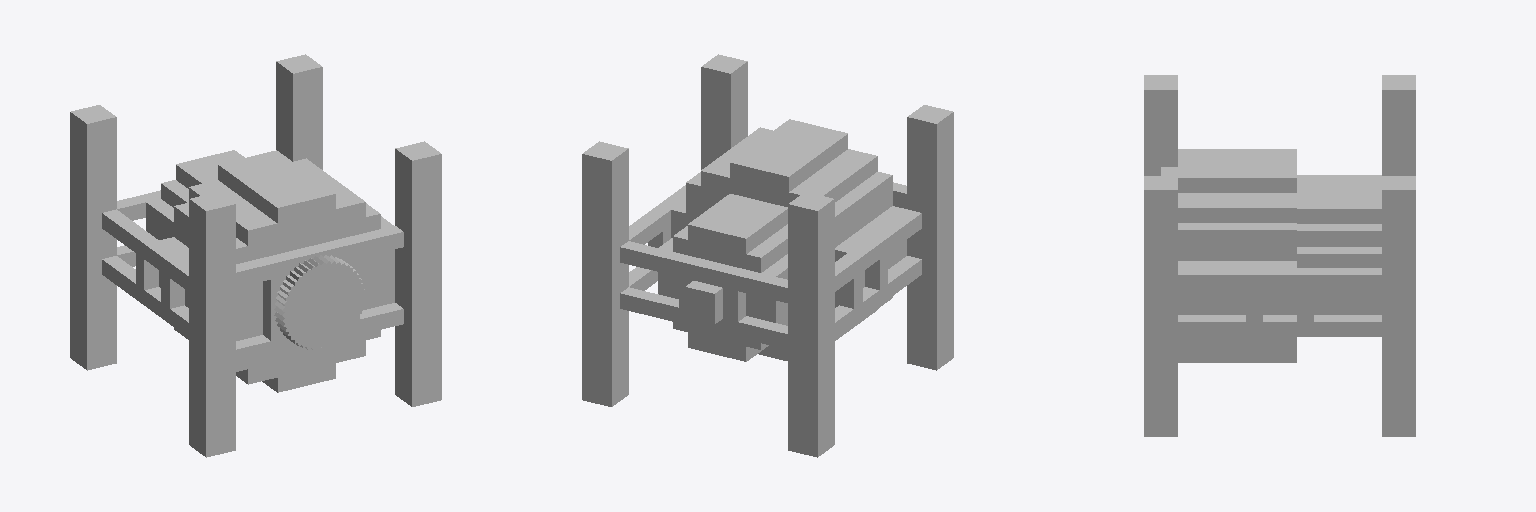
File: gear3d_shaft_adapter_small.obj
The picture shows the model from 3 angles: view 1: azimuth 30°, elevation 25°; view 2: azimuth 150°, elevation 25°; view 3: azimuth 270°, elevation 25°; orthographic projection.
Parts seen in each view (by area): view 1: node_0_1_0..011_node_0_2_0.027; view 2: node_0_1_0..011_node_0_2_0.027; view 3: node_0_1_0..011_node_0_2_0.027.
Boxes of the visible parts, box(x1,y1,x2,y2) form: node_0_1_0..011_node_0_2_0.027: box(70, 54, 441, 457); node_0_1_0..011_node_0_2_0.027: box(582, 54, 953, 457); node_0_1_0..011_node_0_2_0.027: box(1144, 75, 1415, 436).
Size of the model in its own units: 1 by 1 by 1.